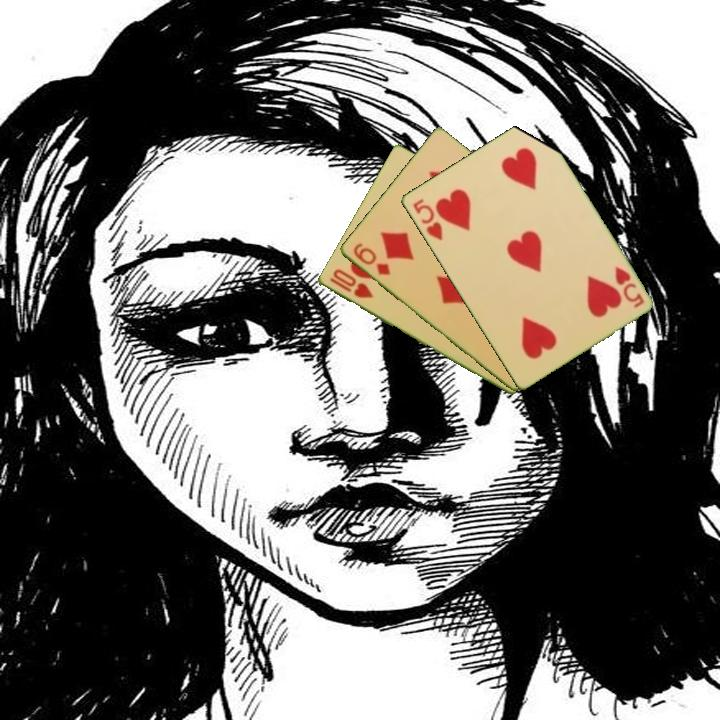10h: (325, 266, 375, 301)
5h: (409, 195, 445, 243), (611, 263, 647, 311)
6d: (349, 239, 393, 278)
